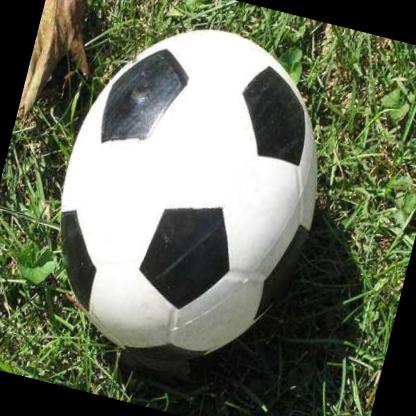ball: (28, 2, 352, 388)
